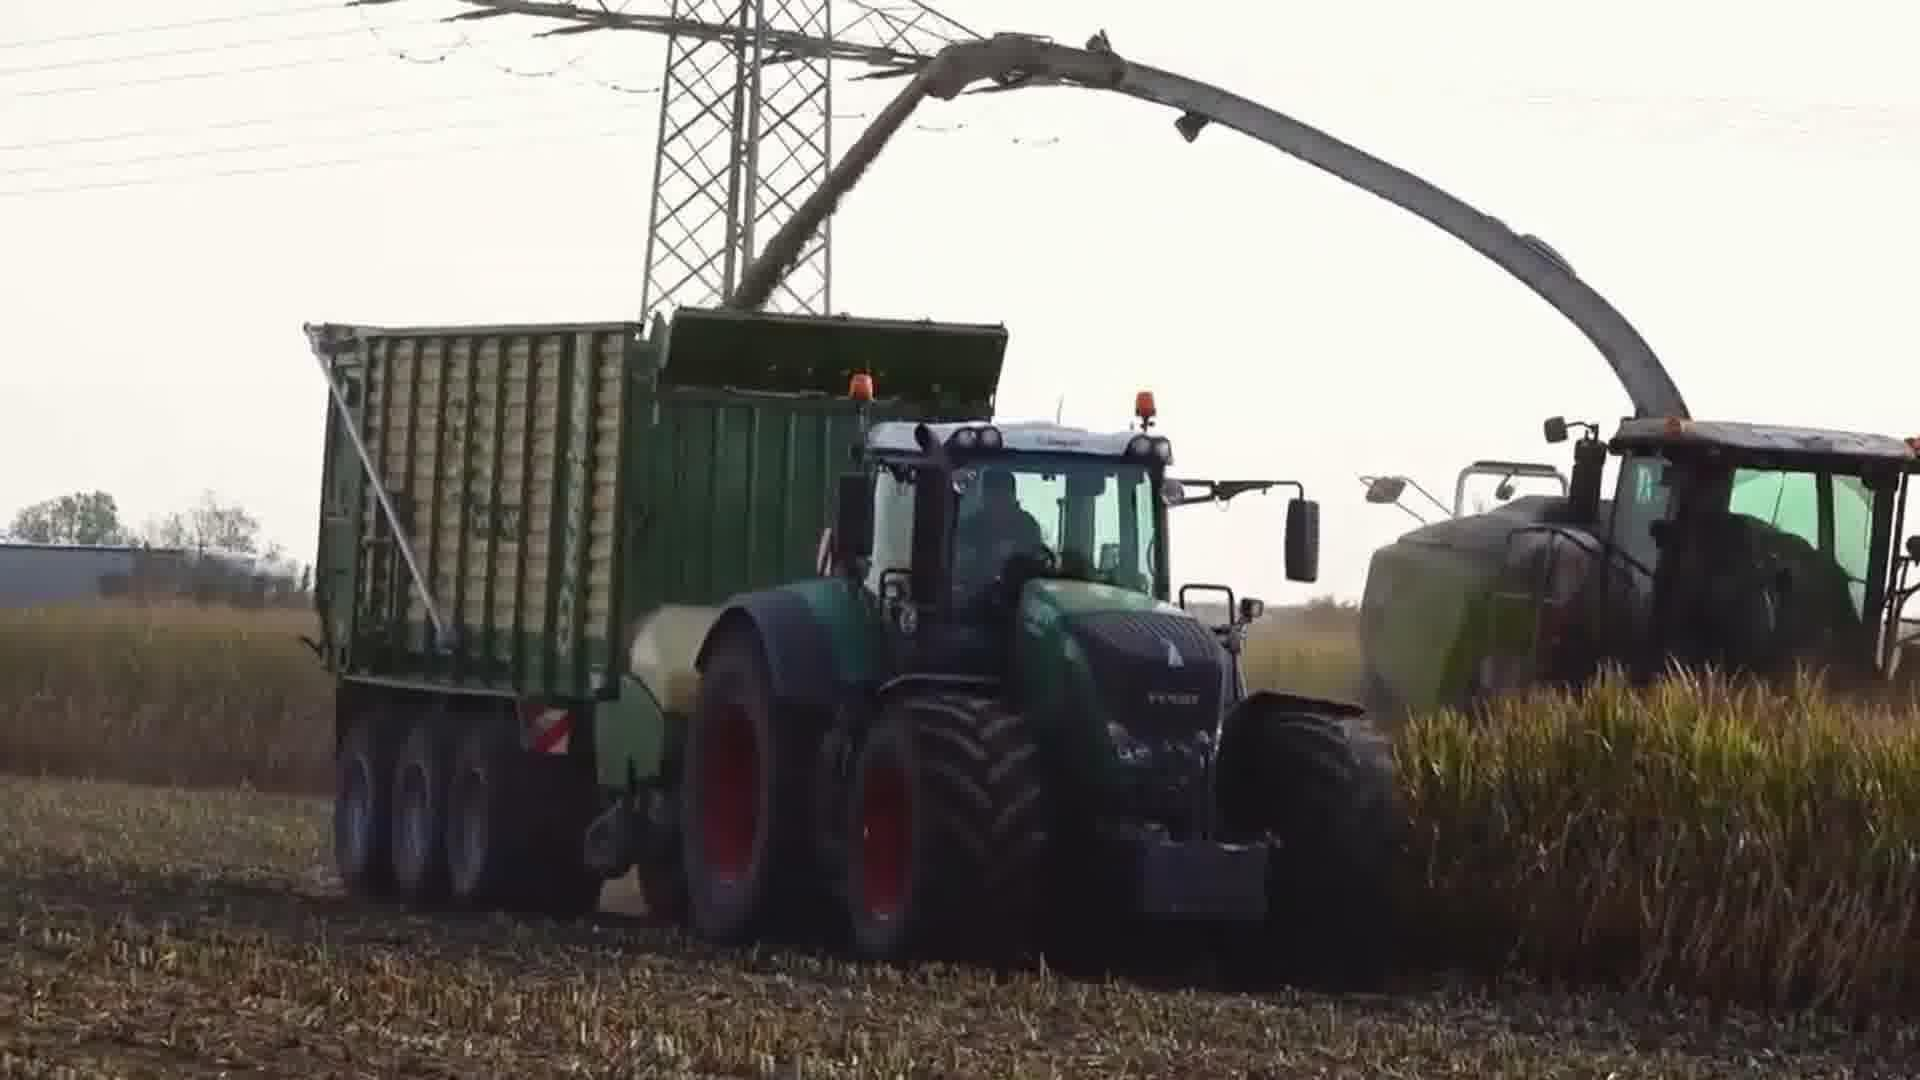combine harvester: (913, 28, 1920, 773)
tractor: (655, 365, 1422, 1009)
trailer: (295, 302, 1013, 922)
